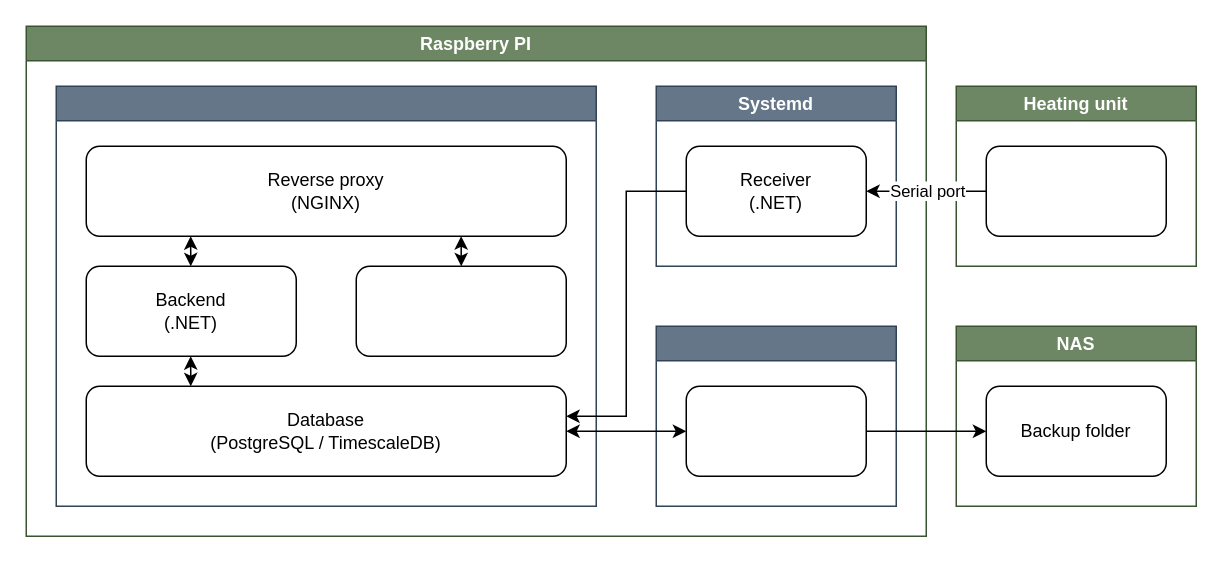
This 1223x563 diagram has some shape labels left out. The shapes that lost their labels are listed below. From the top down, each one's box as (x1, y1, x2, y2) in pixels, then its label:
(985, 145, 1166, 236): PLC debug log
(55, 85, 596, 506): Docker
(355, 265, 566, 356): Frontend (Angular, static SPA)
(655, 325, 896, 506): CRON
(685, 385, 866, 476): Backup job (Bash)
